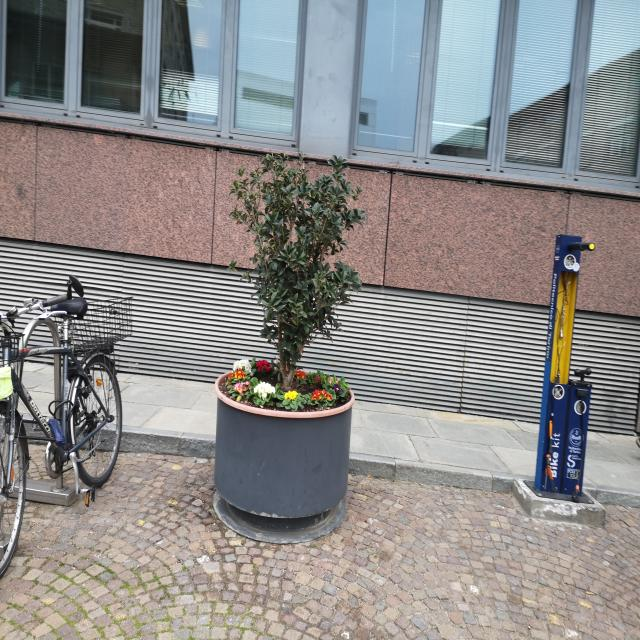Bicycle: (0, 262, 153, 554)
